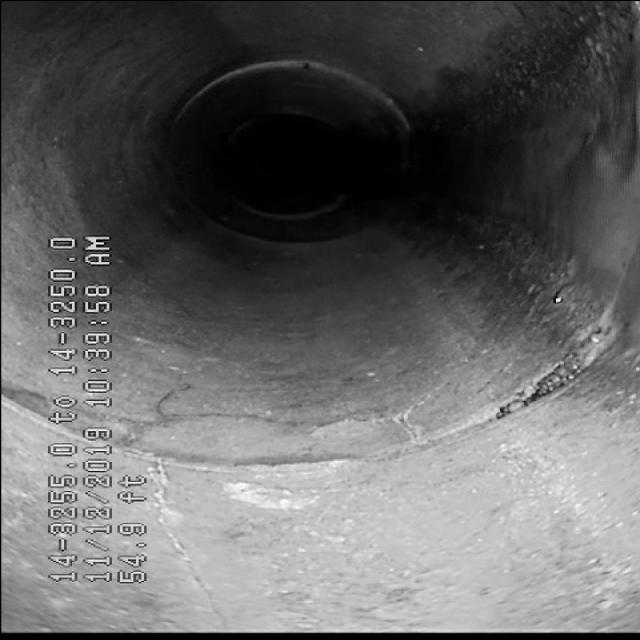Crack: (138, 373, 424, 445)
